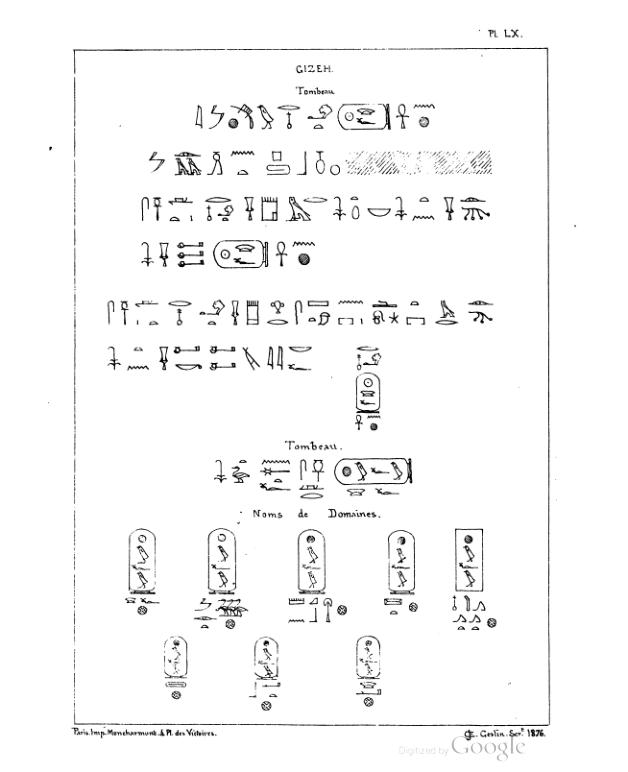circle: (122, 526, 162, 598), (200, 523, 239, 596), (332, 456, 420, 487), (385, 525, 420, 596), (293, 529, 330, 595), (210, 237, 272, 272), (335, 99, 394, 133), (250, 633, 284, 682), (350, 632, 384, 680), (159, 633, 192, 682), (351, 370, 384, 414)
